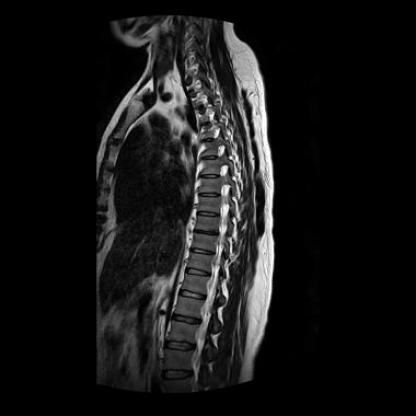Demyelinating Plaquesrotation: (198, 209, 220, 221), (198, 136, 218, 146)
Hemangiomatarotation: (188, 253, 213, 272), (194, 125, 215, 138)
